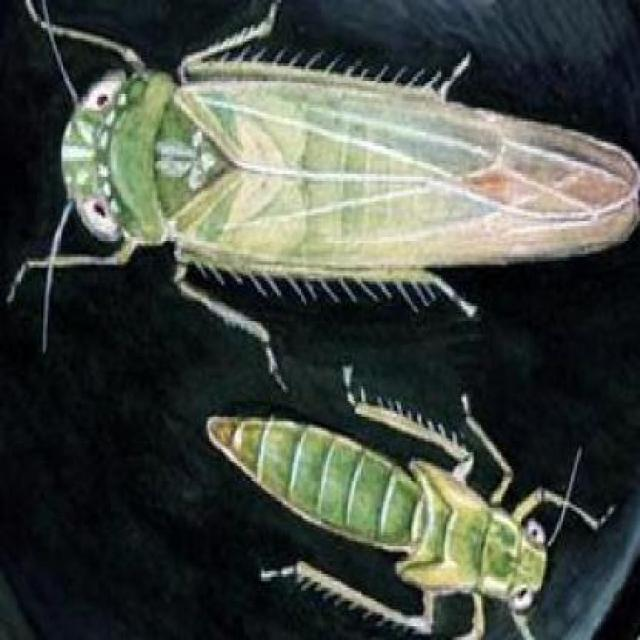green-leafhopper: (71, 37, 626, 286), (215, 418, 554, 610)
